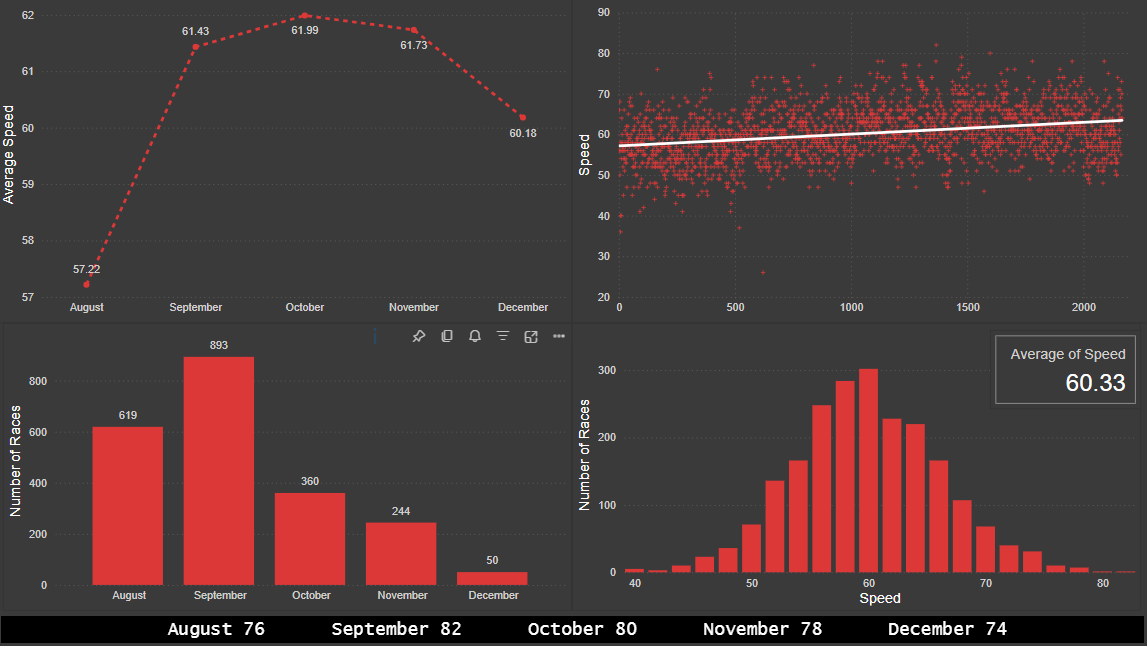

The dashboard page shown, as its layout file describes it:
{"tool":"powerbi","page":{"name":"Page 1","canvas":[1280,720],"ordinal":0},"visuals":[{"type":"clusteredColumnChart","title":"Number of Races per Month","fields":{"Category":["RaceLogs.Date.Variation.Date Hierarchy.Year","RaceLogs.Date.Variation.Date Hierarchy.Month"],"Y":["CountNonNull(RaceLogs.Placed)"]},"box":[8,360,632,320],"z":0},{"type":"scatterChart","fields":{"Y":["RaceLogs.Speed"],"X":["RaceLogs.Index"]},"box":[640,0,640,360],"z":1000},{"type":"clusteredColumnChart","fields":{"Y":["CountNonNull(RaceLogs.Index)"],"Category":["RaceLogs.Speed (bins)"]},"box":[640,360,632,320],"z":2000},{"type":"lineChart","title":"Average Speed per Month","fields":{"Y":["Avg(RaceLogs.Speed)"],"Category":["RaceLogs.Date.Variation.Date Hierarchy.Year","RaceLogs.Date.Variation.Date Hierarchy.Month"]},"box":[0,0,640,360],"z":3000},{"type":"cardVisual","title":"Average Speed","fields":{"Data":["Avg(RaceLogs.Speed)"]},"box":[1104,368,168,88],"z":4000},{"type":"ScrollingTextVisual1448795304508","fields":{"Measure Absolute":["Max(RaceLogs.Speed)"],"Category":["RaceLogs.Date.Variation.Date Hierarchy.Month"]},"box":[0,680,1280,40],"z":5000},{"type":"card","title":"Total Number of Races","fields":{"Values":["Max(RaceLogs.Index)"]},"box":[424,216,200,96],"z":6000}]}

Visuals, with their boxes in screenshot pixels (x1, y1, x2, y2), scaled from the page's 1280x720 canvas onto the 1147x646 screenshot:
"Number of Races per Month" clusteredColumnChart: <box>7,323,574,610</box>
scatterChart - RaceLogs.Speed x RaceLogs.Index: <box>574,0,1146,323</box>
clusteredColumnChart - CountNonNull(RaceLogs.Index) x RaceLogs.Speed (bins): <box>574,323,1140,610</box>
"Average Speed per Month" lineChart: <box>0,0,574,323</box>
"Average Speed" cardVisual: <box>989,330,1140,409</box>
ScrollingTextVisual1448795304508 - Max(RaceLogs.Speed) x RaceLogs.Date.Variation.Date Hierarchy.Month: <box>0,610,1146,645</box>
"Total Number of Races" card: <box>380,194,559,280</box>
